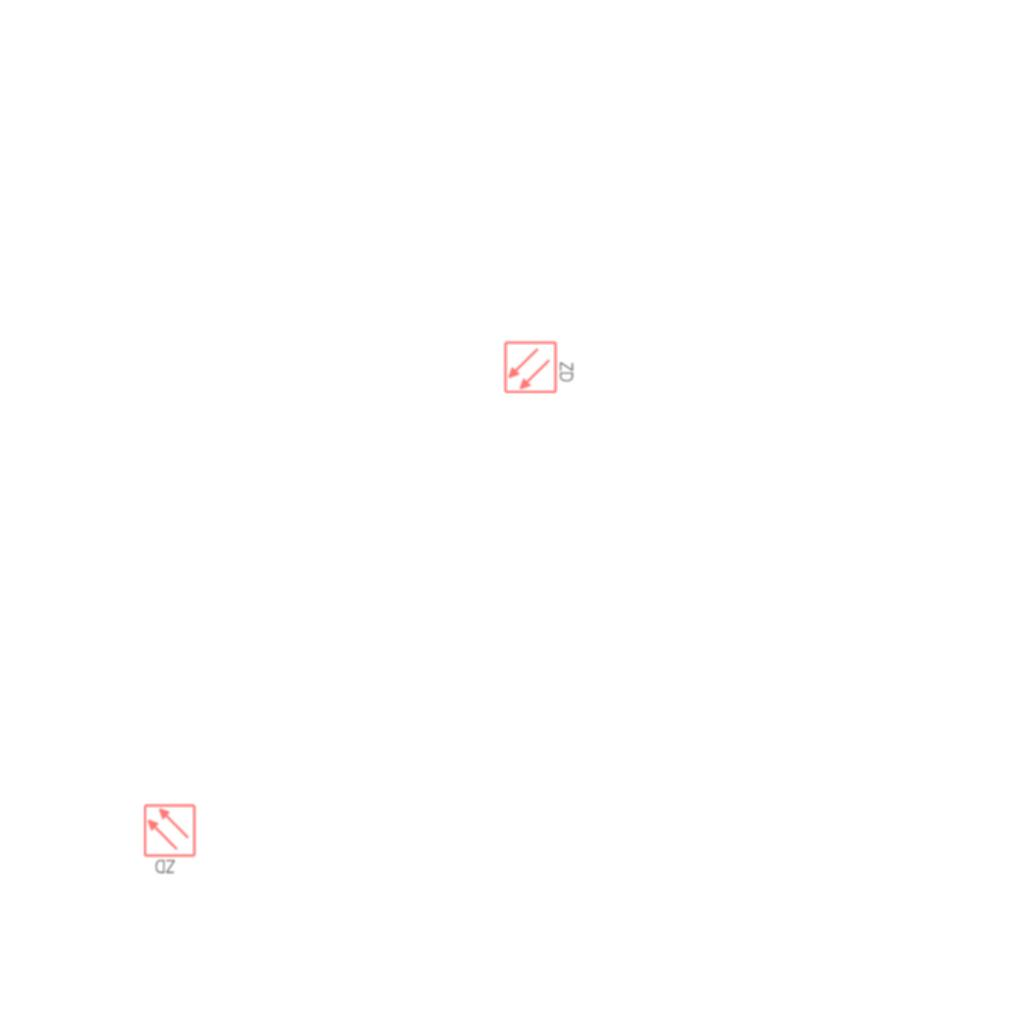ZD_Melder_in_Zwischendecke_mit_Revisionsoeffnung_mind_40_x_40_cm: (142, 803, 199, 877), (503, 338, 577, 395)
